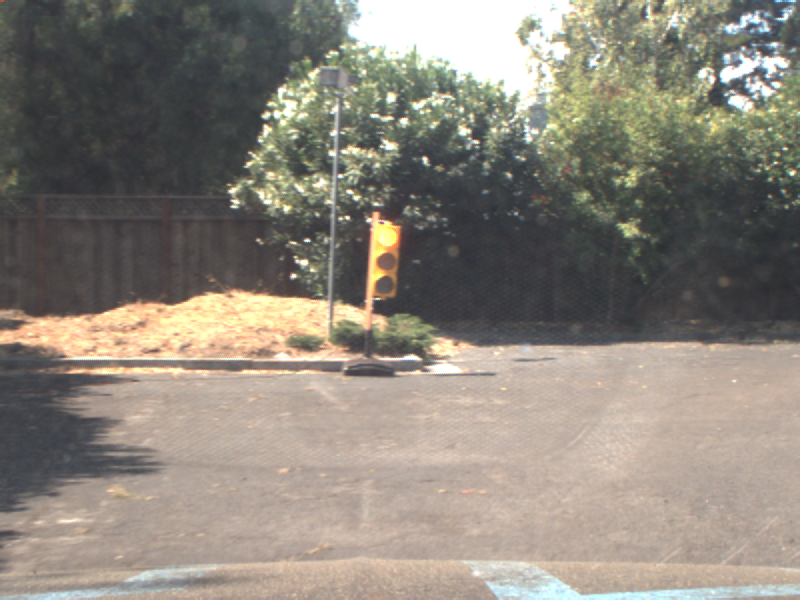red: (368, 213, 398, 301)
